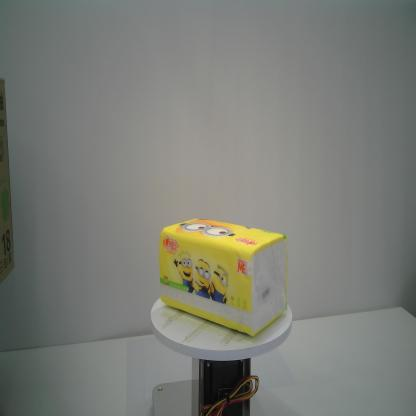Tissue: (157, 217, 289, 338)
